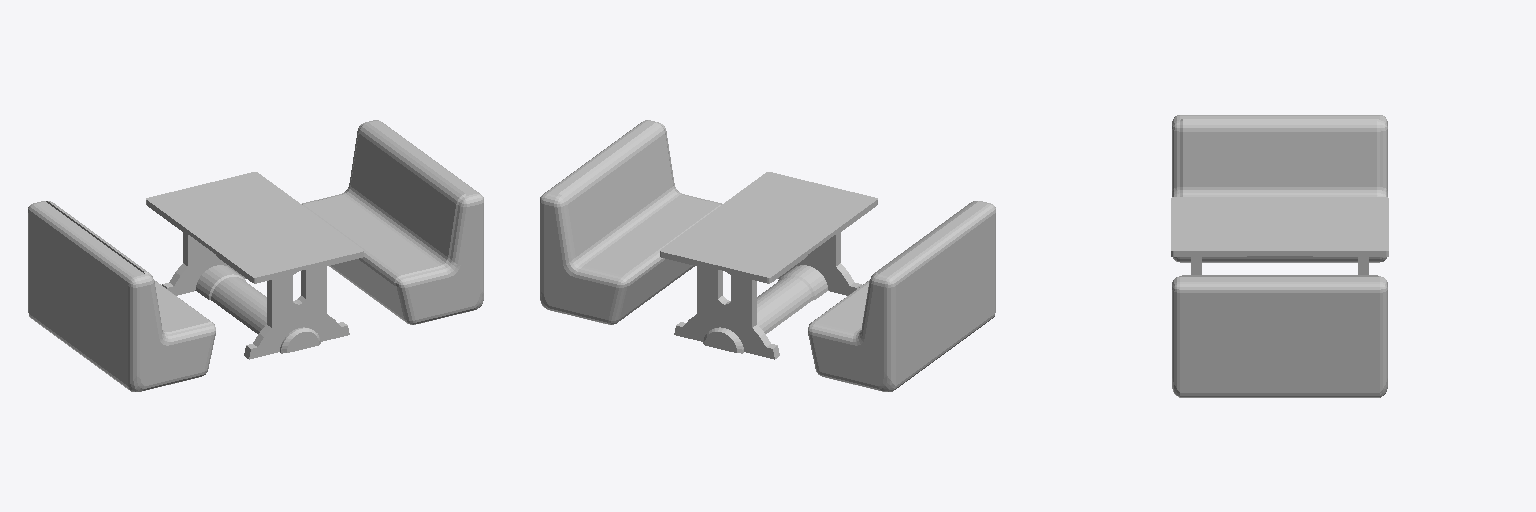
The model's file is table.obj.
3 renders of one model, left to right at view 1: azimuth 30°, elevation 25°; view 2: azimuth 150°, elevation 25°; view 3: azimuth 270°, elevation 25°, orthographic.
Visible parts, largest first — view 1: sofa_low.001, sofa_low, Plane_low, Cylinder.001_low, Cylinder_low; view 2: sofa_low.001, sofa_low, Plane_low, Cylinder.001_low, Cylinder_low; view 3: sofa_low.001, sofa_low, Plane_low.
Part boxes in pixels (x1,y1,x2,y2): sofa_low.001: (302,120,483,324); sofa_low: (28,201,215,391); Plane_low: (146,172,363,283); Cylinder.001_low: (162,231,349,359); Cylinder_low: (195,265,320,353); sofa_low.001: (540,120,721,324); sofa_low: (808,201,995,391); Plane_low: (660,172,877,283); Cylinder.001_low: (674,231,861,359); Cylinder_low: (703,265,828,353); sofa_low.001: (1172,275,1387,397); sofa_low: (1172,115,1387,262); Plane_low: (1171,197,1388,256).
Bounding box in the file's own units: 3.88 × 1.23 × 2.07.